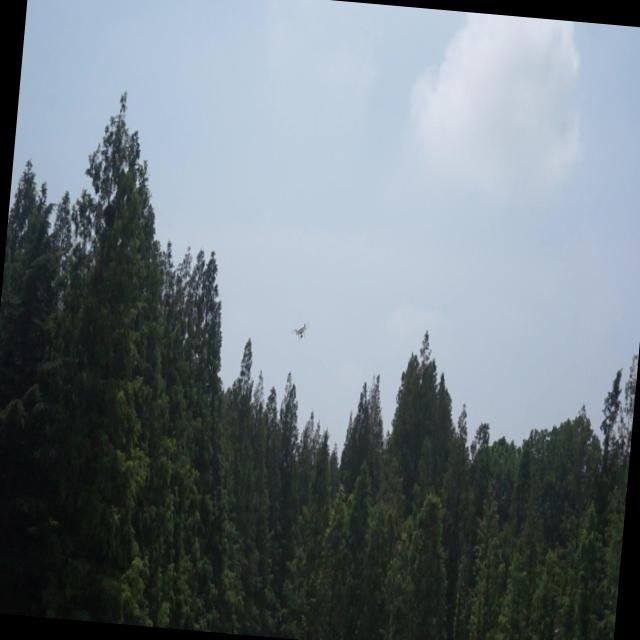drone: (290, 320, 310, 346)
